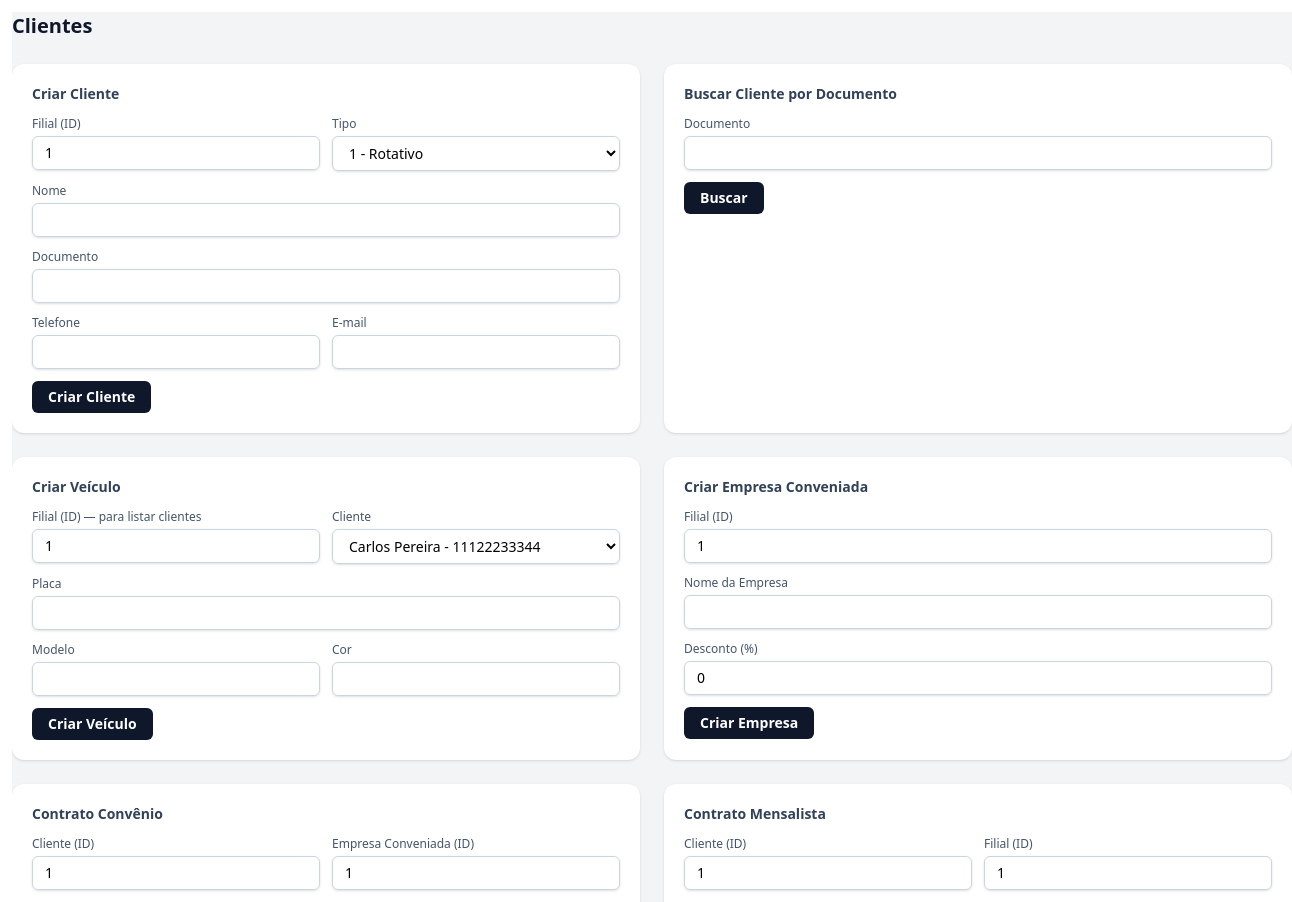
Test: CustomersPage › shows an error message when the customer search fails
Type "00000000000" into the field with id "searchDocument" at (978, 153), box [684,136,1272,170]
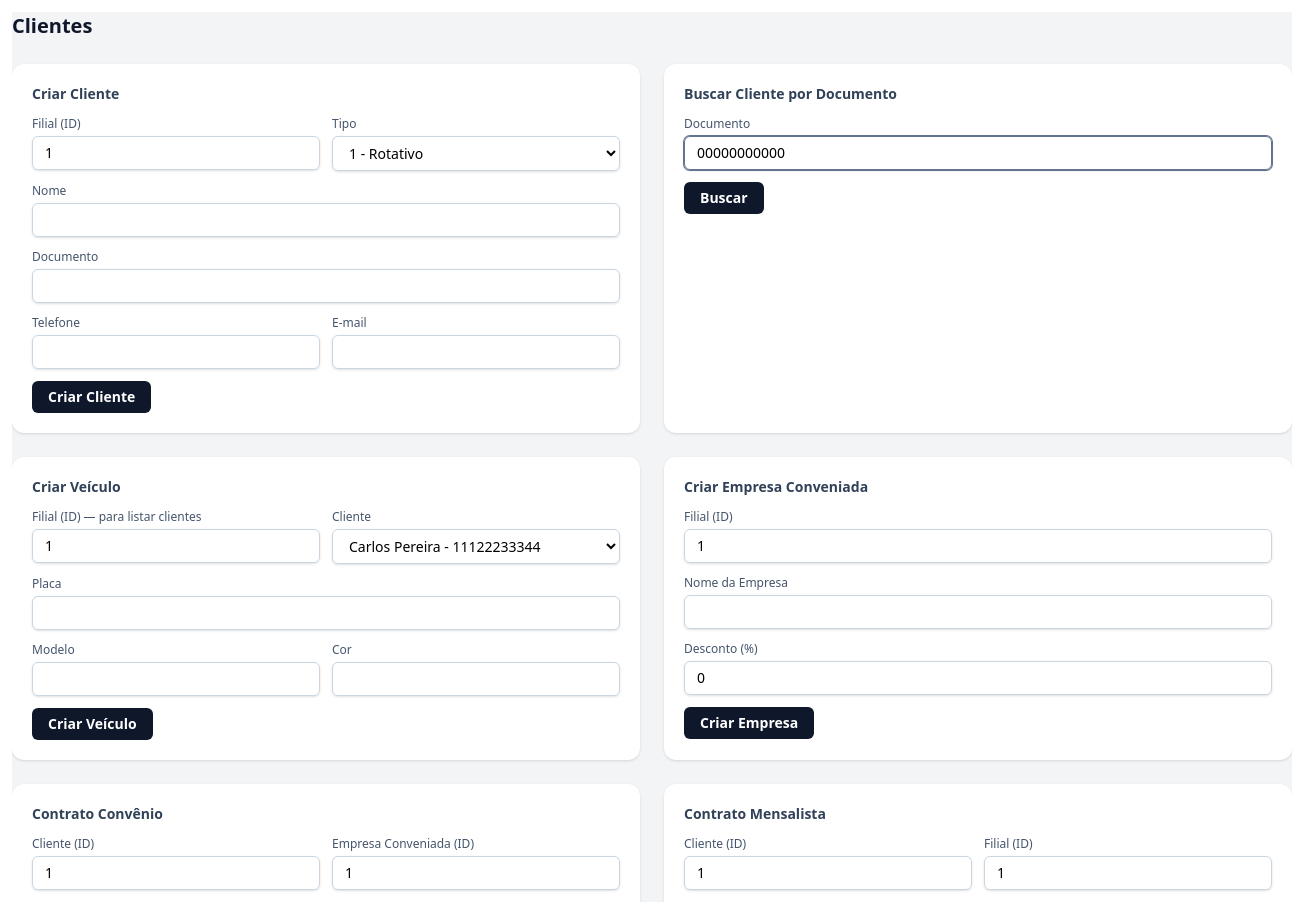
Click the button "Buscar" at (724, 198), box [684,182,764,214]
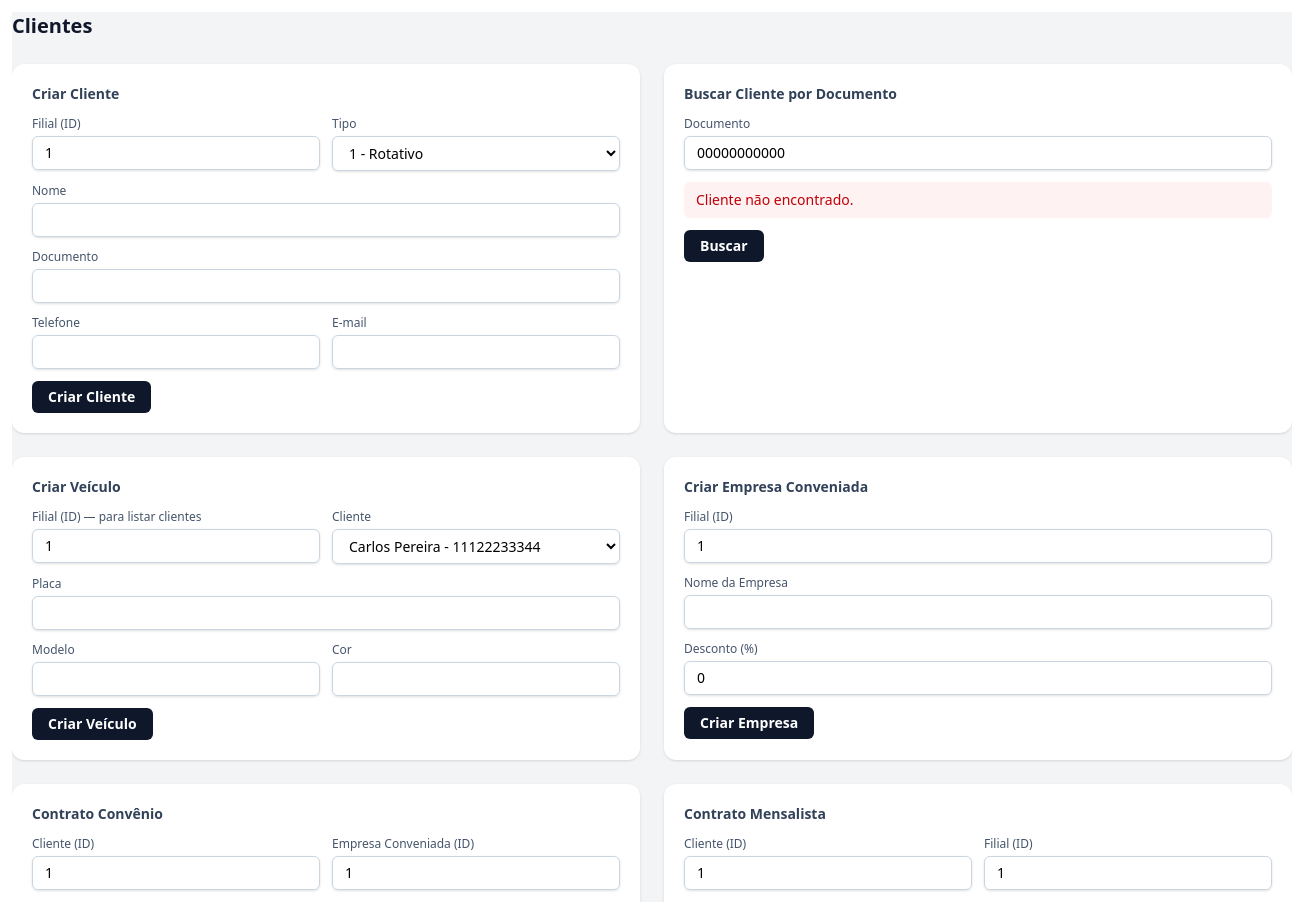
Expected: the text "Cliente não encontrado." is shown, [684,182,1272,218]
